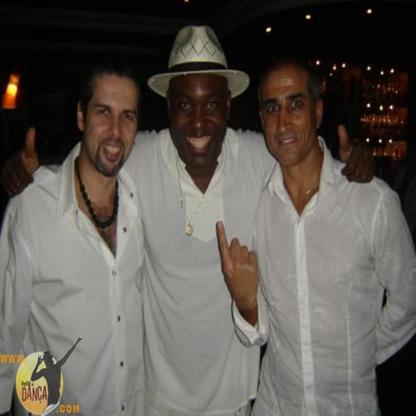face: (173, 72, 228, 165), (91, 78, 138, 174), (265, 72, 314, 164)
